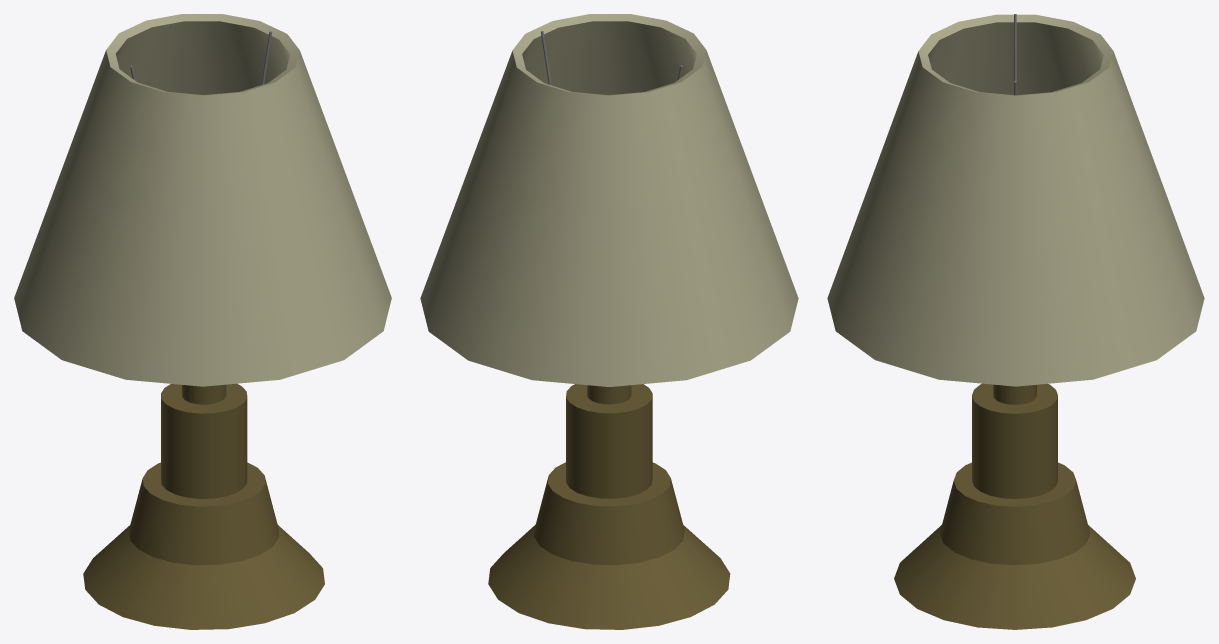
Rendered from LampUVMapped.fbx.
3 renders of one model, left to right at view 1: azimuth 30°, elevation 25°; view 2: azimuth 150°, elevation 25°; view 3: azimuth 270°, elevation 25°, orthographic.
Parts seen in each view (by area): view 1: Lamp:LampShade, Lamp:LampBase; view 2: Lamp:LampShade, Lamp:LampBase; view 3: Lamp:LampShade, Lamp:LampBase.
Boxes of the visible parts, x1,y1,x2,y2 form: Lamp:LampShade: [14, 14, 391, 386]; Lamp:LampBase: [83, 383, 324, 629]; Lamp:LampShade: [420, 14, 798, 386]; Lamp:LampBase: [488, 384, 730, 629]; Lamp:LampShade: [827, 14, 1204, 386]; Lamp:LampBase: [894, 383, 1135, 629].
Bounding box in the file's own units: 151 × 236 × 152.
